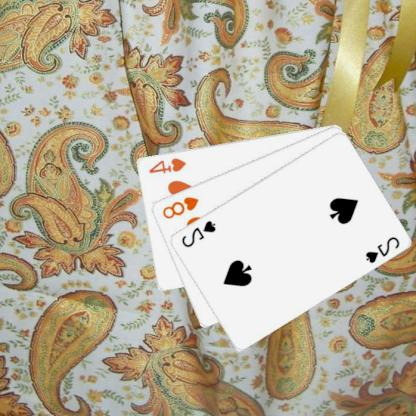2S: (180, 218, 219, 249), (364, 233, 402, 264)
4H: (148, 155, 188, 175)
8H: (161, 194, 201, 220)
